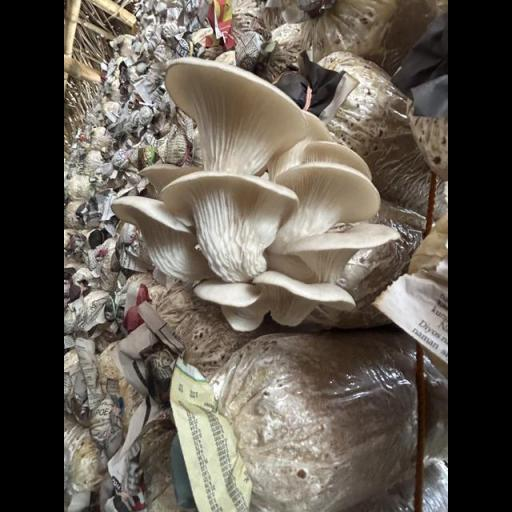White Oyster Mushroom: (108, 49, 405, 335)
